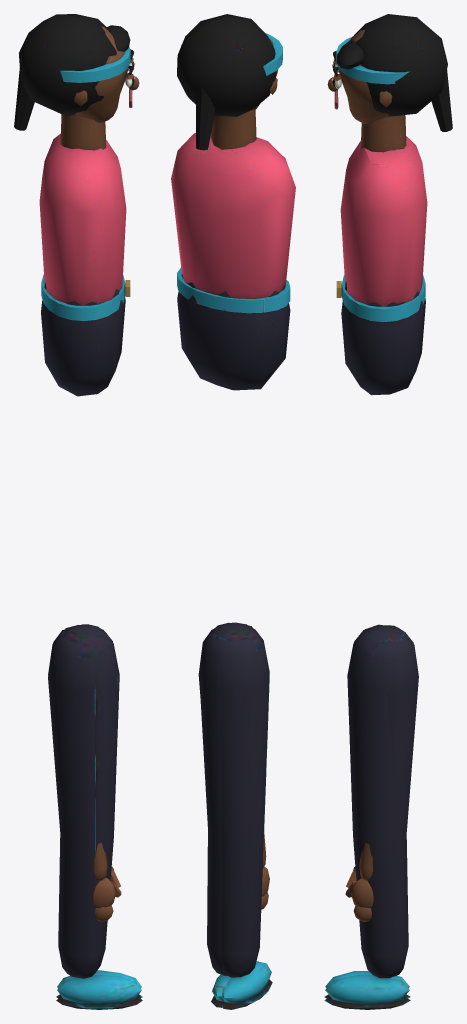
Rendered from deportista.glb.
The picture shows the model from 3 angles, left to right: view 1: azimuth 90°, elevation 25°; view 2: azimuth 150°, elevation 25°; view 3: azimuth 270°, elevation 25°; orthographic projection.
Parts seen in each view (by area): view 1: deportista_cuerpo, deportista_pierna_i, deportista_pierna_d, deportista_brazo_i; view 2: deportista_cuerpo, deportista_pierna_i, deportista_pierna_d, deportista_brazo_i; view 3: deportista_cuerpo, deportista_pierna_d, deportista_pierna_i, deportista_brazo_d.
Boxes of the visible parts, x1,y1,x2,y2 form: deportista_cuerpo: (14,14,139,396); deportista_pierna_i: (48,625,142,1009); deportista_pierna_d: (48,624,142,998); deportista_brazo_i: (93,843,121,921); deportista_cuerpo: (171,14,295,390); deportista_pierna_i: (198,622,272,1009); deportista_pierna_d: (200,622,262,1007); deportista_brazo_i: (261,833,269,909); deportista_cuerpo: (327,14,452,395); deportista_pierna_d: (324,625,418,1009); deportista_pierna_i: (324,624,418,998); deportista_brazo_d: (345,843,373,921).
Bounding box in the file's own units: 0.3149 × 2.58 × 0.3061.
Materials: 5 (5 with a texture image).
